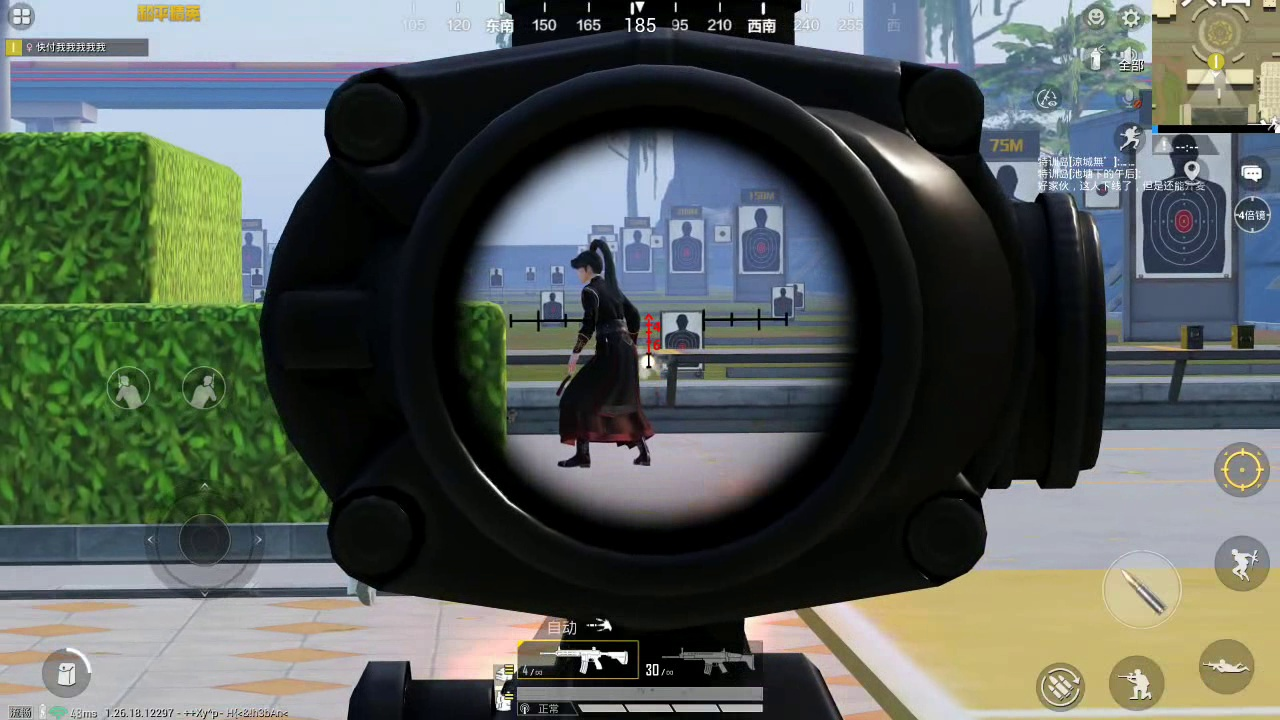enemy: (558, 242, 655, 474)
